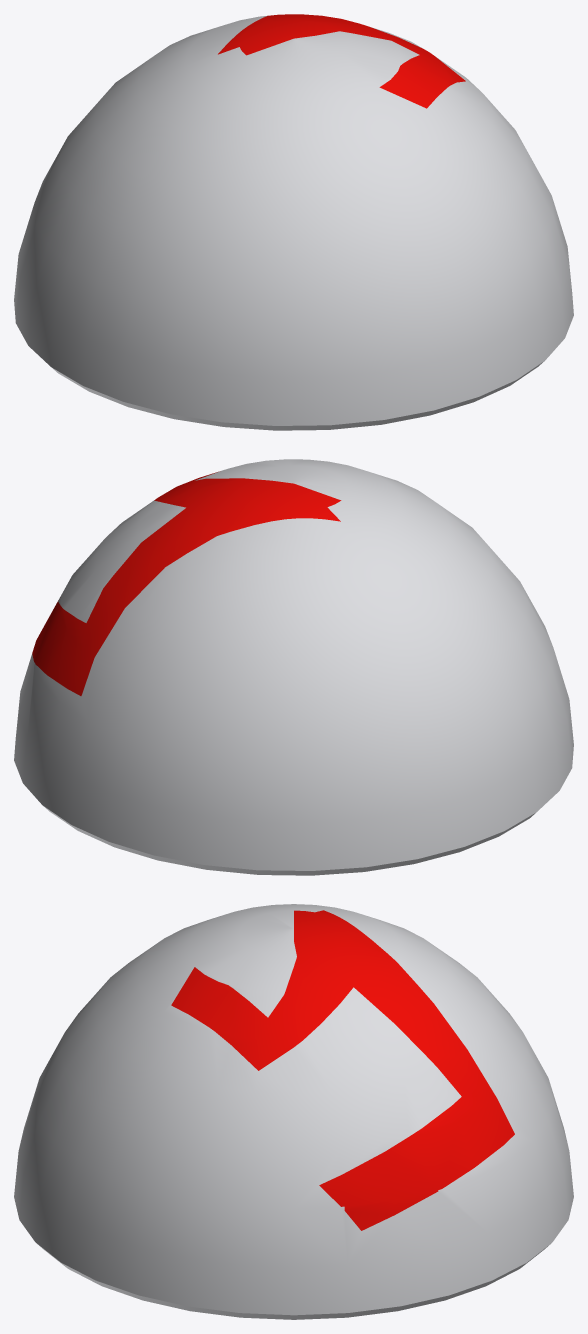
Rendered from K1_Hemisphere.fbx.
3 views of the same model, one above another, from view 1: azimuth 30°, elevation 25°; view 2: azimuth 150°, elevation 25°; view 3: azimuth 270°, elevation 25° (orthographic).
Parts seen in each view (by area): view 1: Sphere.001; view 2: Sphere.001; view 3: Sphere.001.
Part boxes in pixels (bbox=[...]): Sphere.001: bbox=[14, 14, 573, 430]; Sphere.001: bbox=[14, 459, 573, 875]; Sphere.001: bbox=[14, 904, 573, 1319].
Size of the model in its own units: 312 by 170 by 312.
